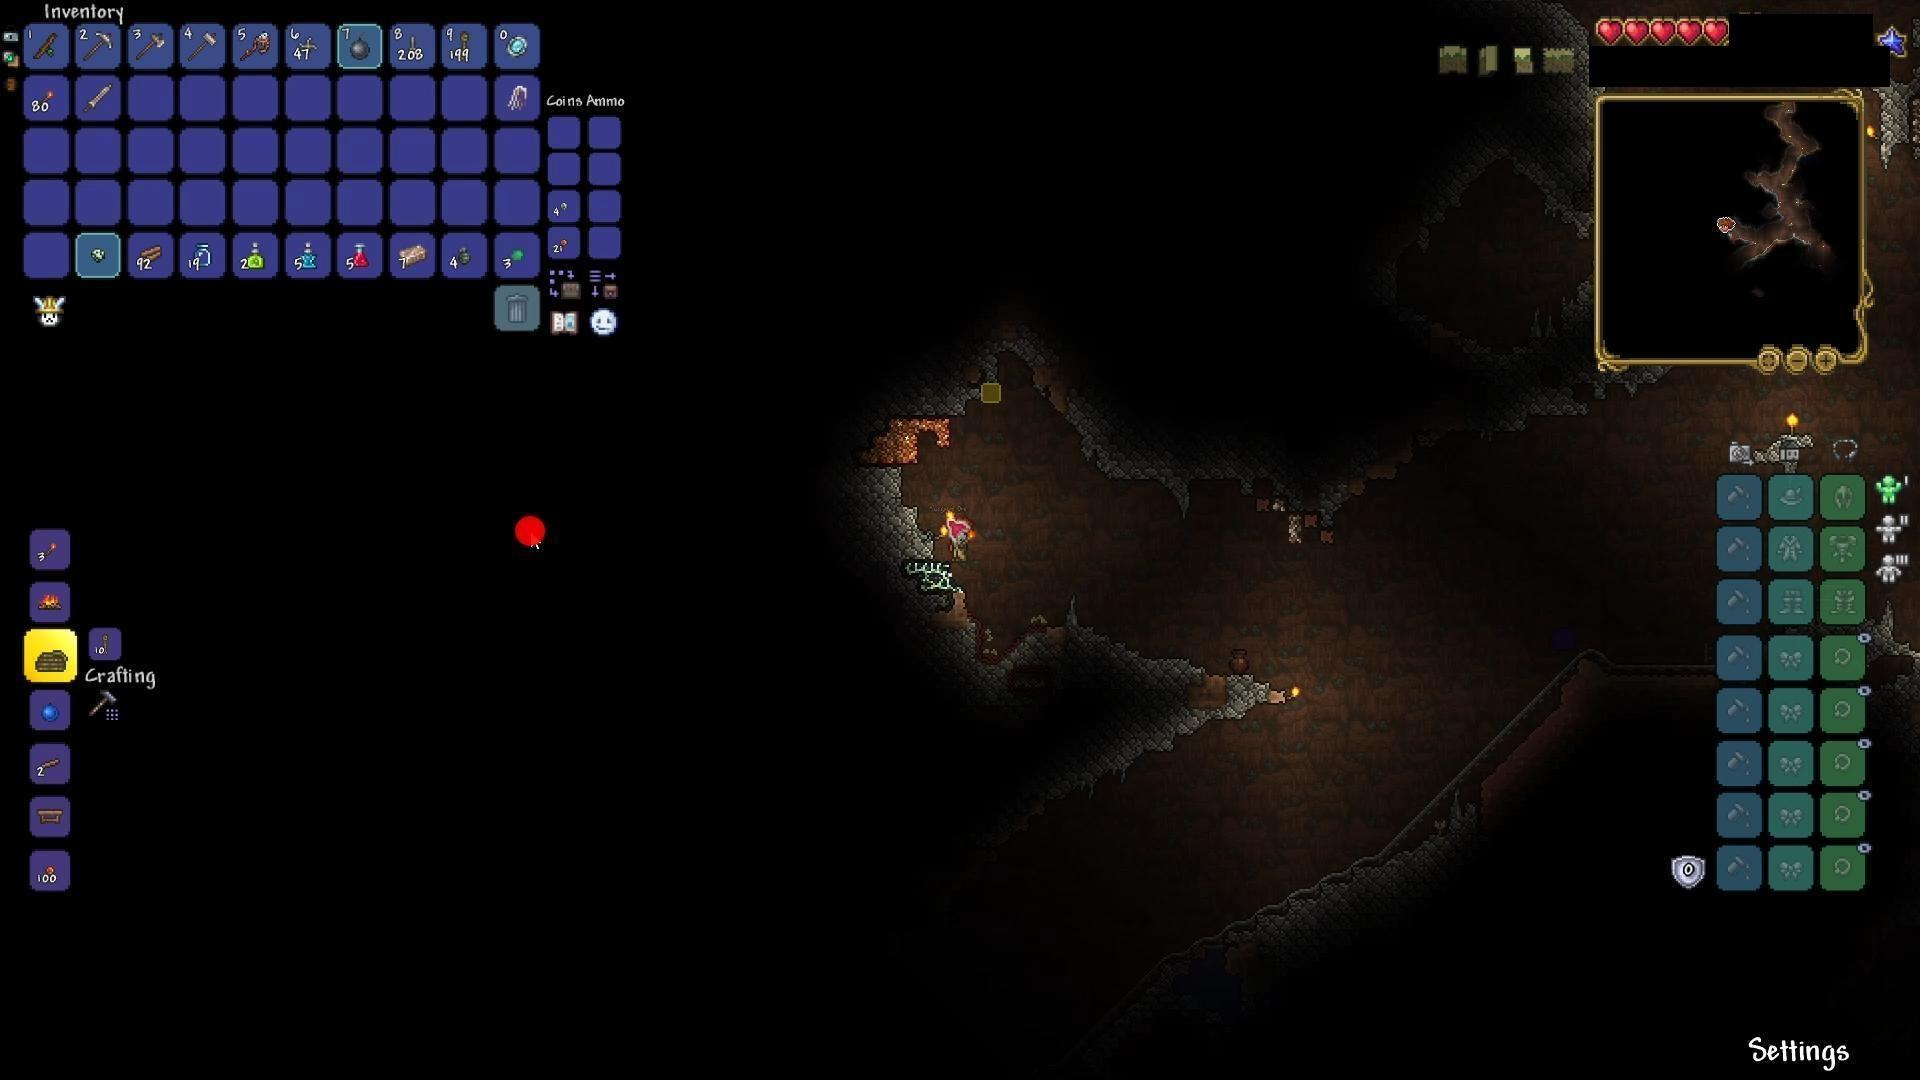heart: (1702, 17, 1733, 51), (1593, 16, 1626, 46), (1676, 15, 1704, 50), (1650, 16, 1676, 49), (1625, 15, 1651, 44)
stone: (1275, 807, 1437, 967), (1023, 633, 1189, 775), (1054, 392, 1240, 504), (1503, 112, 1598, 236), (1182, 655, 1280, 756), (836, 462, 931, 564), (857, 340, 984, 417), (1489, 319, 1578, 426), (923, 638, 1015, 733), (1858, 71, 1913, 169)
